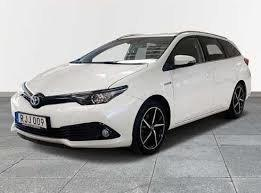license-plates: (18, 113, 47, 128)
